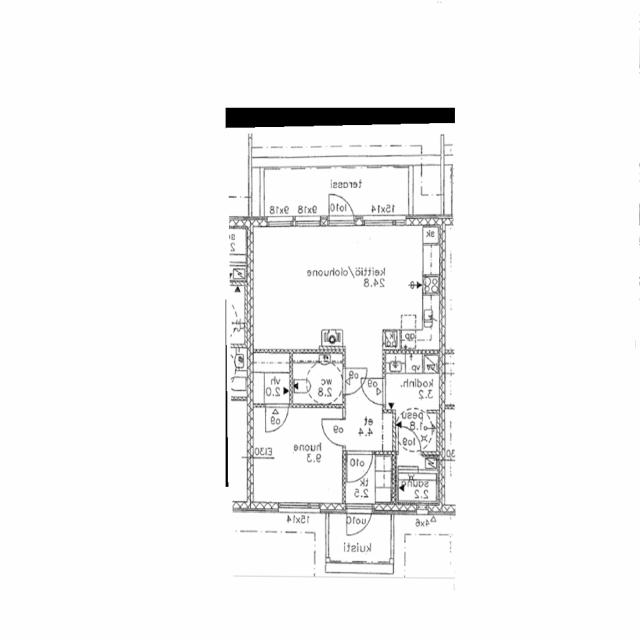door: (347, 504, 372, 544), (329, 186, 353, 225), (347, 451, 372, 484), (319, 419, 346, 445), (398, 425, 421, 455), (360, 378, 386, 404), (266, 404, 288, 434), (343, 368, 368, 394)
